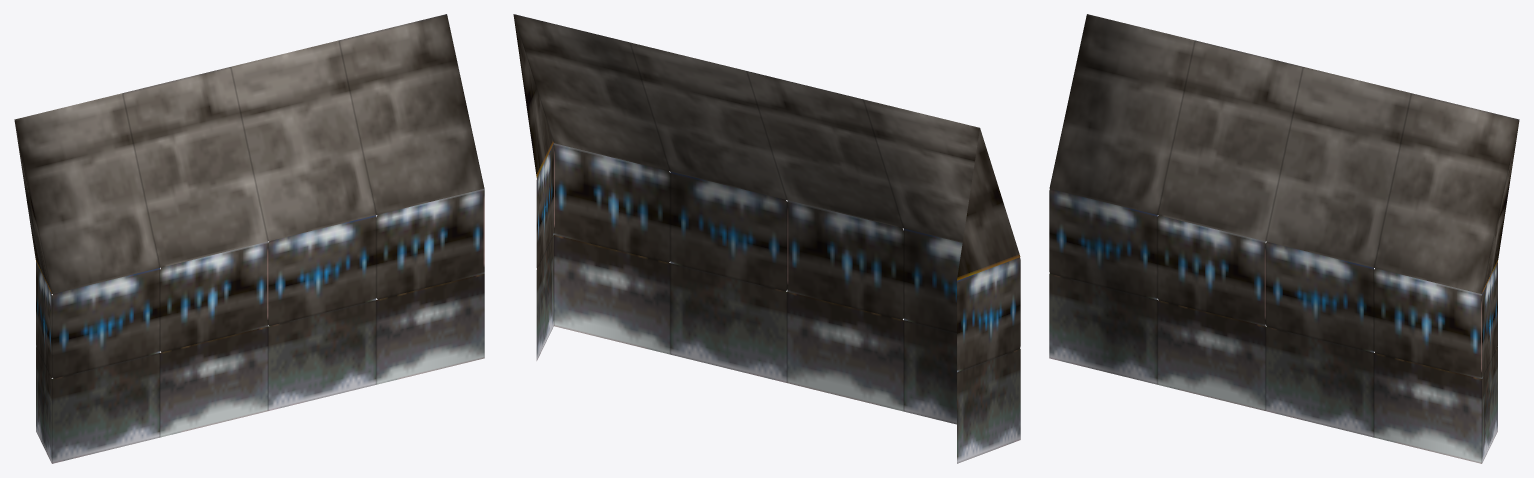
3 views of the same model, side by side, from view 1: azimuth 30°, elevation 25°; view 2: azimuth 150°, elevation 25°; view 3: azimuth 330°, elevation 25° (orthographic). The views are drawn at different scales.
Visible parts, largest first — view 1: T1L8M007_2; view 2: T1L8M007_2; view 3: T1L8M007_2.
Part boxes in pixels (box(x1,y1,x2,y2)): T1L8M007_2: box(14, 14, 484, 463); T1L8M007_2: box(513, 14, 1020, 463); T1L8M007_2: box(1049, 14, 1519, 463).
Size of the model in its own units: 4 by 2.8 by 0.6006.
Materials: 1 (1 with a texture image).
